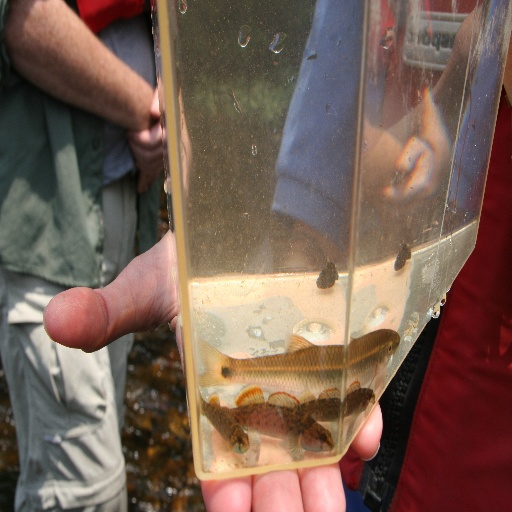hand: (42, 228, 382, 511), (126, 82, 164, 177), (137, 116, 157, 197)
